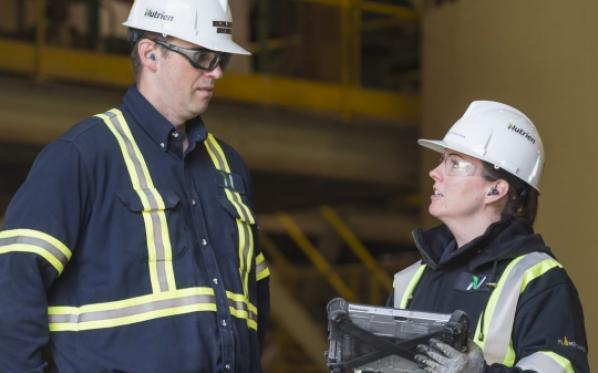helmet: (421, 103, 544, 196), (122, 1, 252, 59)
